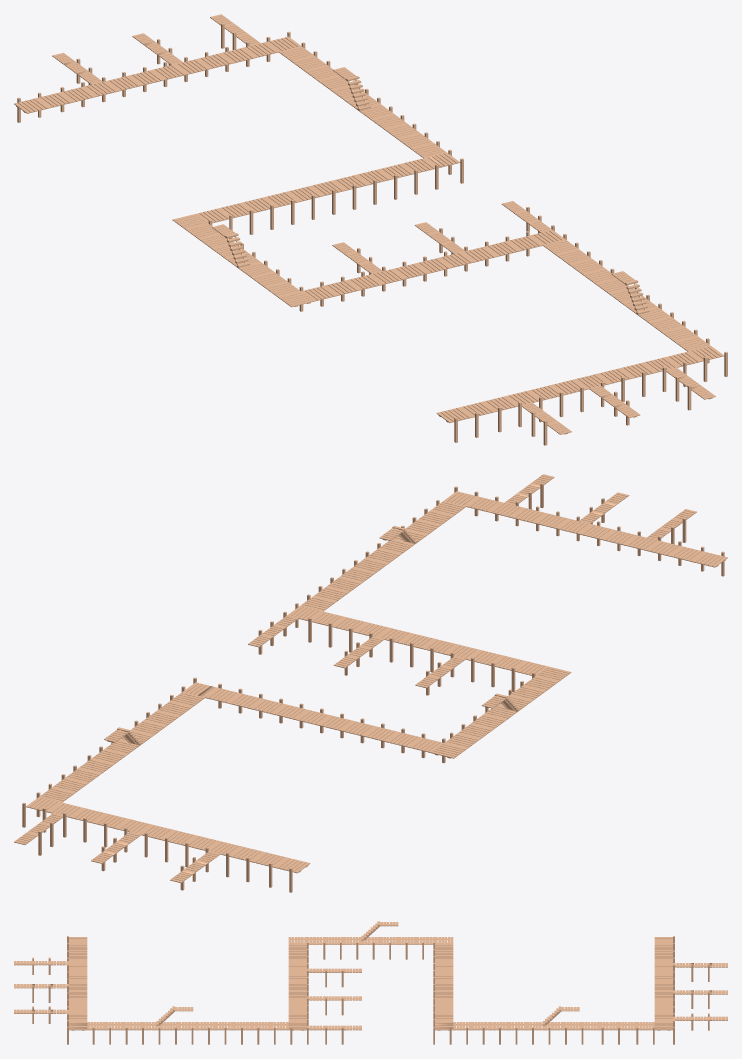
The model's file is Docks.fbx.
3 renders of one model, top to bottom at view 1: azimuth 30°, elevation 25°; view 2: azimuth 150°, elevation 25°; view 3: azimuth 270°, elevation 25°, orthographic. The views are drawn at different scales.
Visible parts, largest first — view 1: planksHalf.002, poles.001; view 2: planksHalf.002, poles.001; view 3: planksHalf.002, poles.001, planksHalf.009, planksHalf.010, planksHalf.011.
Part boxes in pixels (box(x1,y1,x2,y2)): planksHalf.002: box(14, 14, 724, 434); poles.001: box(17, 23, 727, 445); planksHalf.002: box(14, 474, 727, 882); poles.001: box(22, 483, 724, 892); planksHalf.002: box(14, 937, 727, 1030); poles.001: box(32, 936, 709, 1044); planksHalf.009: box(361, 921, 398, 940); planksHalf.010: box(156, 1006, 193, 1025); planksHalf.011: box(542, 1006, 579, 1025).
Bounding box in the file's own units: 1210 × 180 × 3900.
